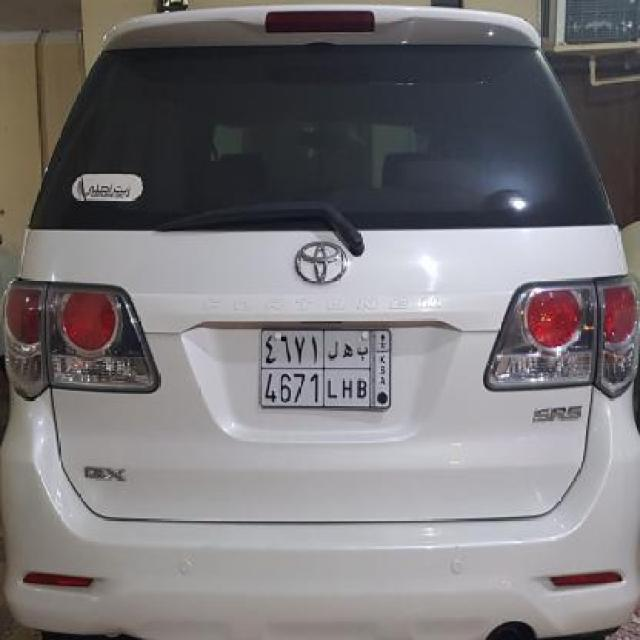license_plate: (258, 327, 392, 408)
